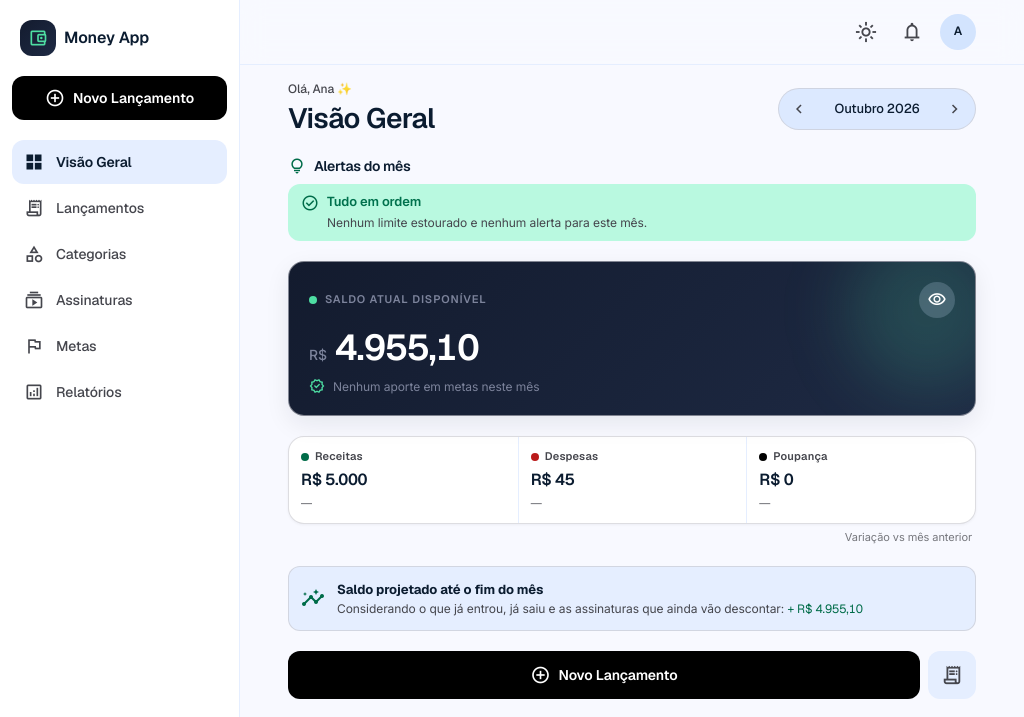
Scenario: aba Assinaturas › o saldo previsto de um mês futuro desconta as assinaturas previstas
Check: the text "4.955,10" is shown, box [335, 326, 479, 370]
Check: the text with test id "balance-value" reads "4.955,10", box [335, 324, 479, 371]
Click the button named "Próximo mês" at (955, 109), box [939, 93, 971, 125]
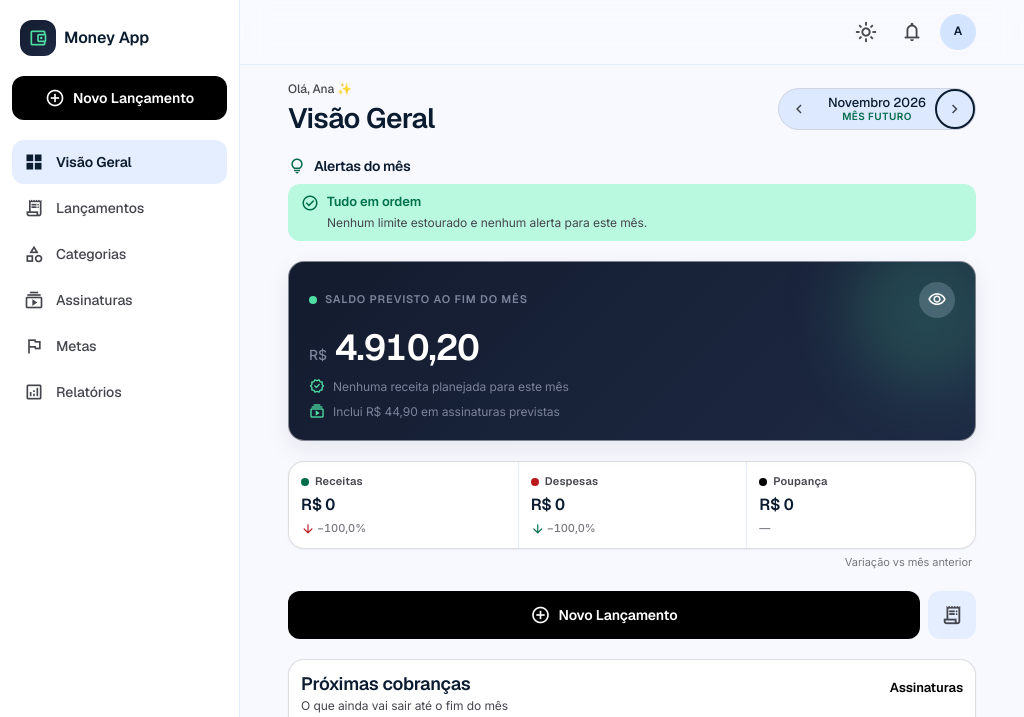
Click the button named "Próximo mês" at (955, 109), box [939, 93, 971, 125]
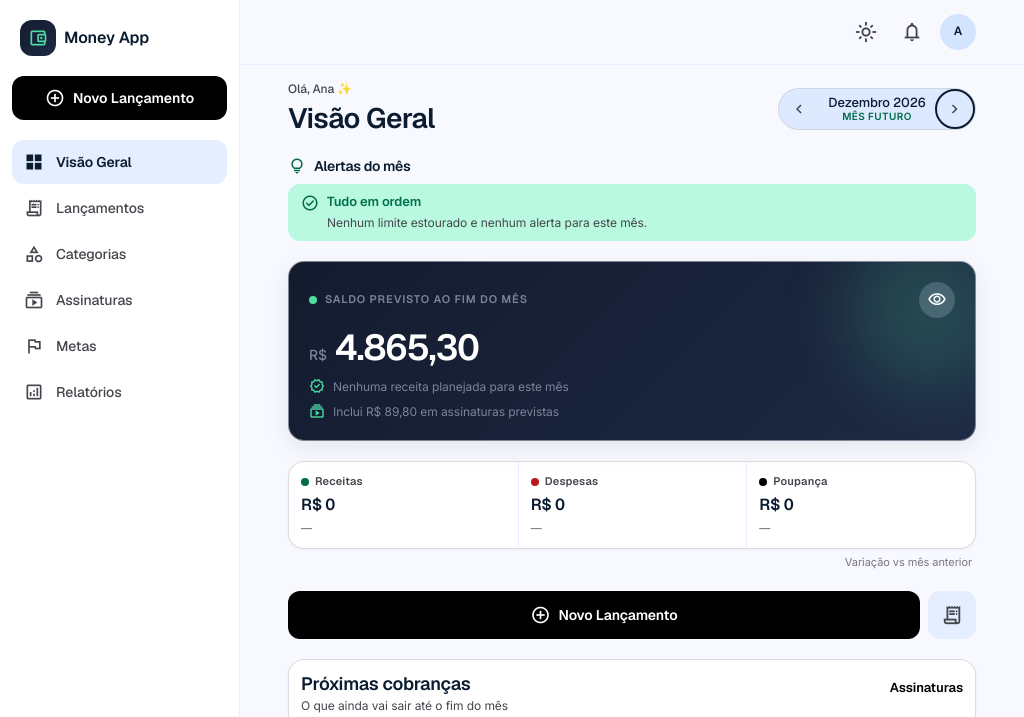
Check: the text with test id "balance-value" reads "4.865,30", box [335, 324, 479, 371]
Check: the text "Inclui R$ 89,80 em assinaturas previstas" is shown, box [333, 403, 559, 420]
